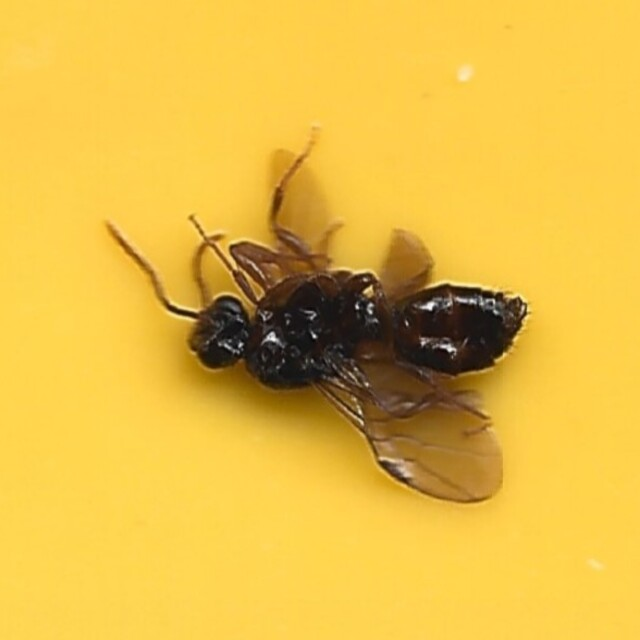Hymenoptera: (109, 127, 531, 513)
